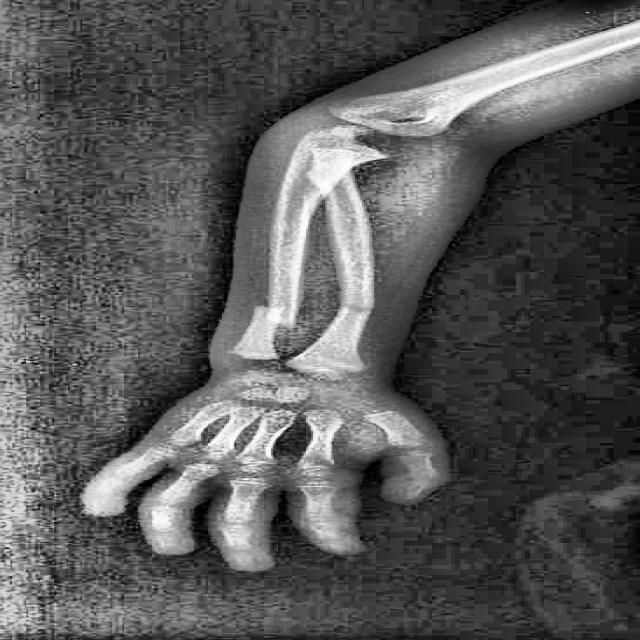line: (331, 304, 374, 314)
messed_up_angle: (247, 302, 297, 330)
